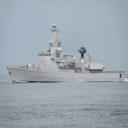Fragata: (7, 24, 128, 85)
